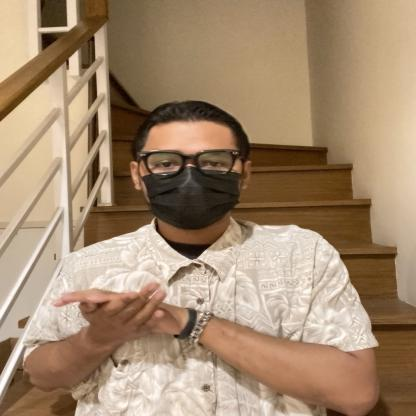Love: (44, 254, 266, 356)
